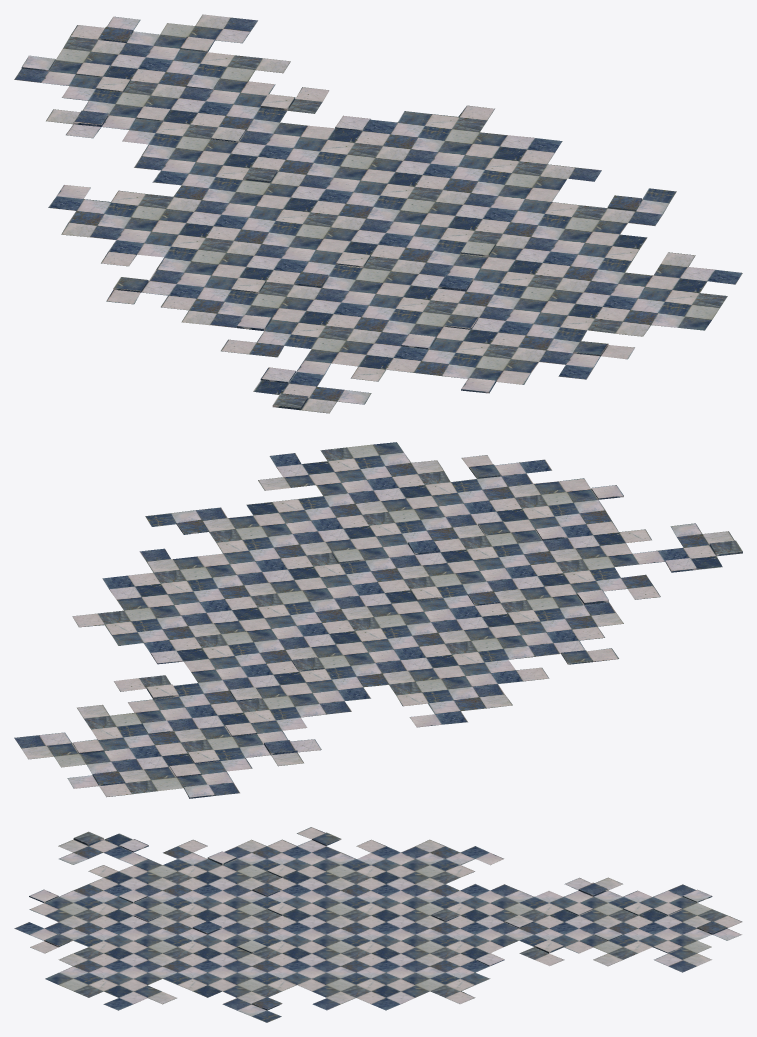
File: church_floor.fbx
3 renders of one model, top to bottom at view 1: azimuth 30°, elevation 25°; view 2: azimuth 150°, elevation 25°; view 3: azimuth 270°, elevation 25°, orthographic. The views are drawn at different scales.
Parts seen in each view (by area): view 1: church_floor; view 2: church_floor; view 3: church_floor.
Boxes of the visible parts, x1=… form: church_floor: x1=14, y1=14, x2=742, y2=413; church_floor: x1=14, y1=442, x2=742, y2=798; church_floor: x1=14, y1=827, x2=742, y2=1022.
Size of what is drawn, in the model's own units: 1087 by 3.9 by 1708.
